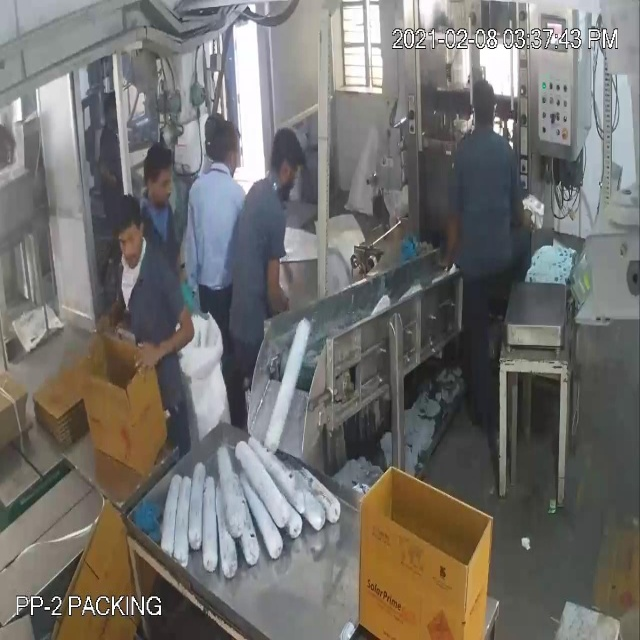Sin_guantes: (132, 287, 195, 382), (265, 243, 285, 315)
